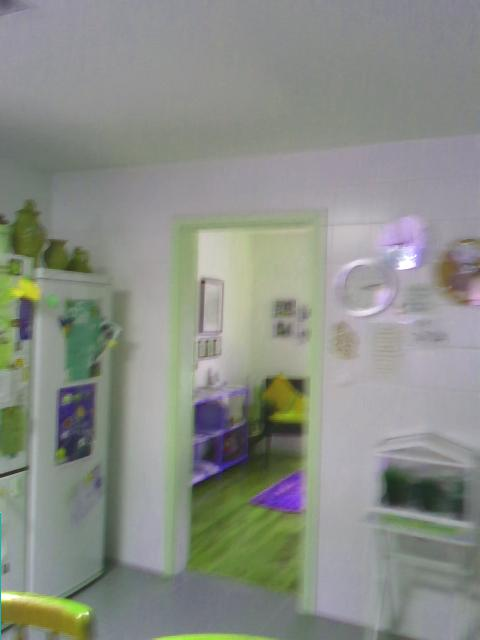open_door: (160, 206, 326, 617)
